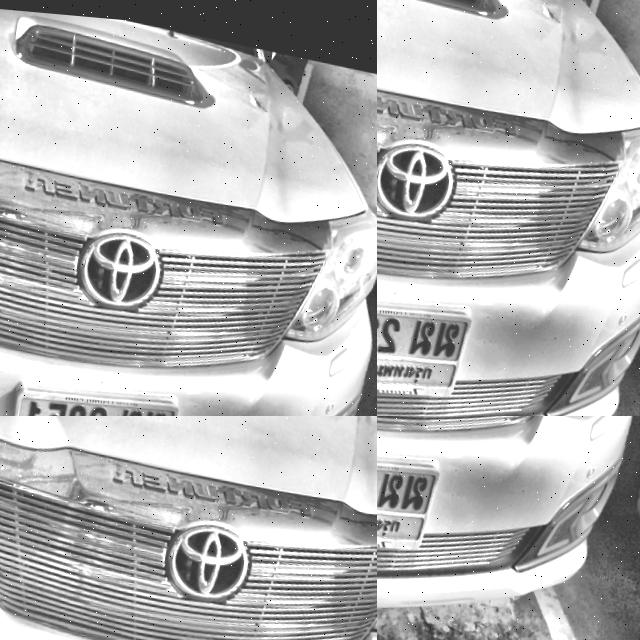license-plate: (377, 416, 446, 569), (318, 52, 377, 141)
